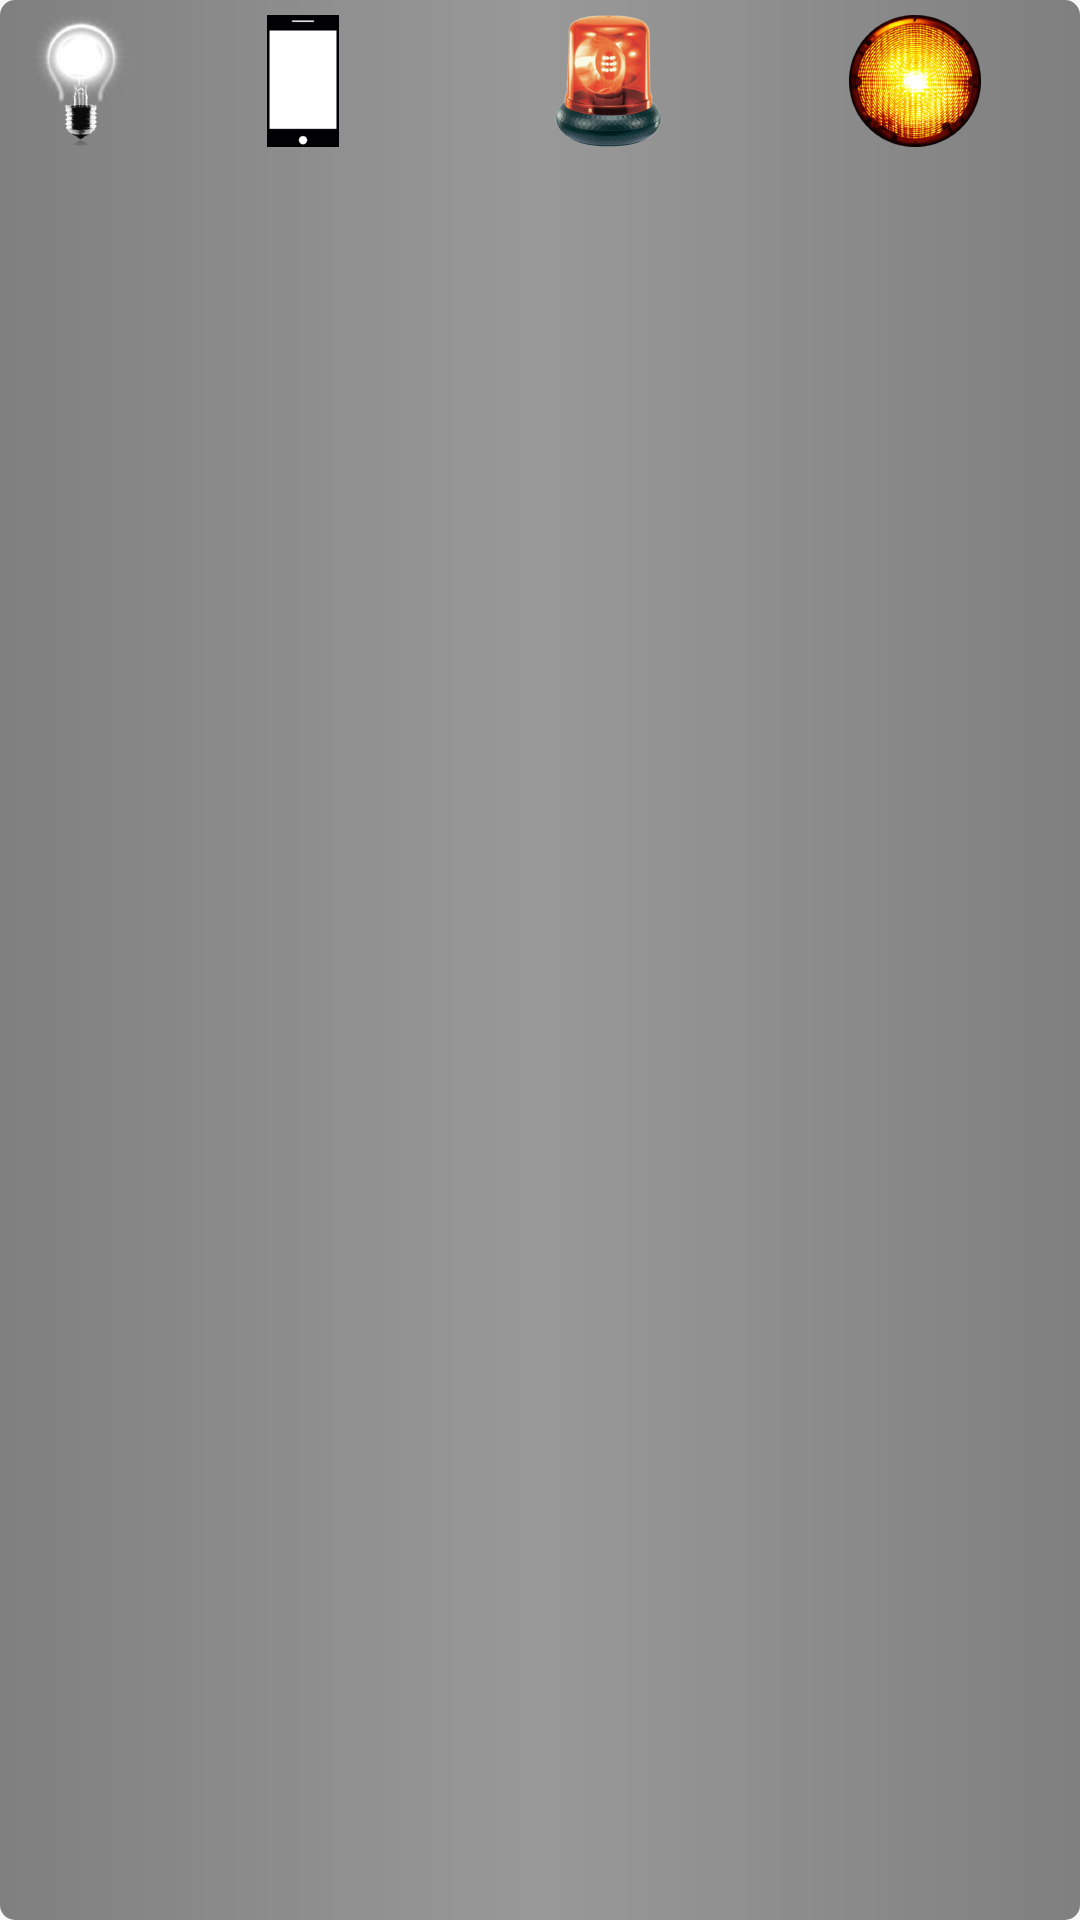

Point at icon controls on the screen. Image size 1080×1920, points as point (x, y).
police: point (608, 81)
screen: point (303, 81)
